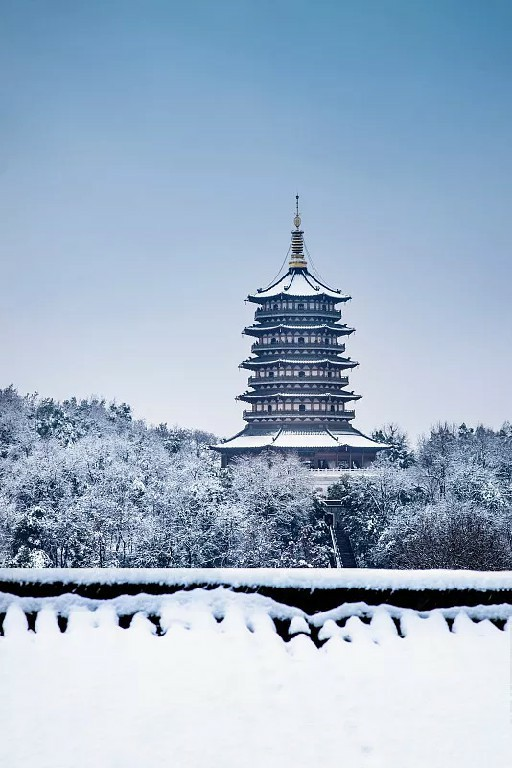Leifeng: (207, 184, 401, 474)
